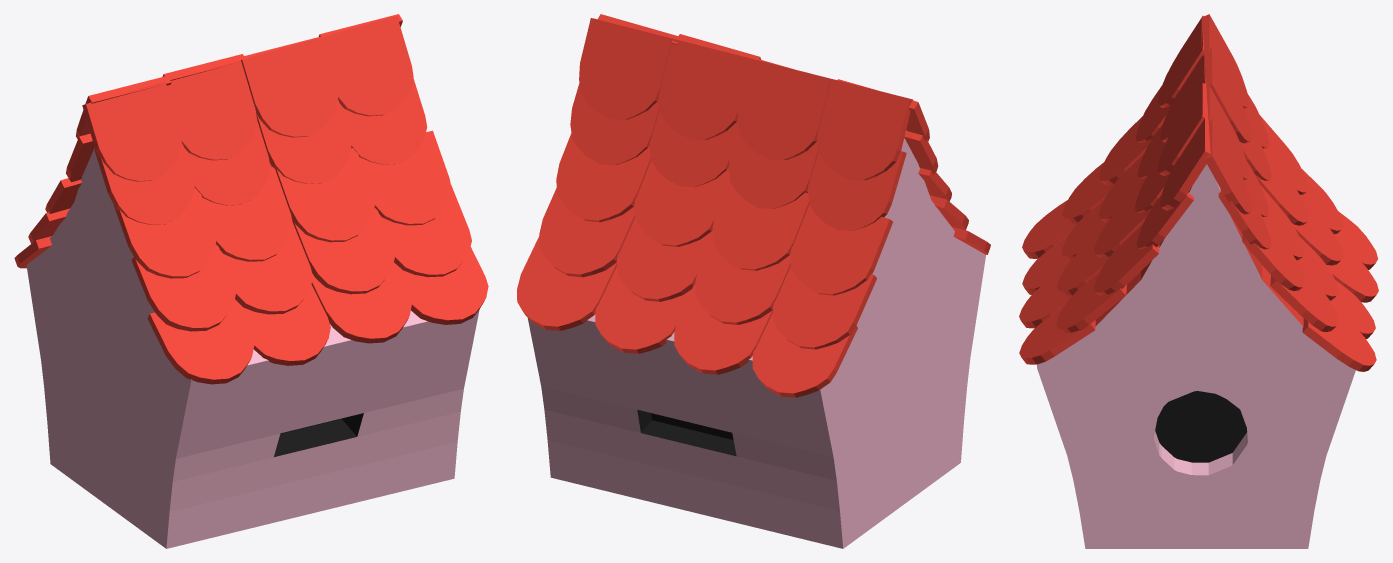
File: Bird_House.obj
3 views of the same model, side by side, from view 1: azimuth 30°, elevation 25°; view 2: azimuth 150°, elevation 25°; view 3: azimuth 270°, elevation 25° (orthographic). The views are drawn at different scales.
Visible parts, largest first — view 1: group1644922446, group1267132533, group523291338, group1237239514, group2017416410, group1143590556, group237740808, group524518127, group2069091998, group61402183, group1448090274, group1376504471 (+15 smaller); view 2: group1644922446, group30455806, group518334273, group394417821, group1614844125, group216432254, group2046839900, group973759995, group760873485, group220520178, group1682062602, group1768850218 (+13 smaller); view 3: group1644922446, group1682062602, group1237239514, group237740808, group394417821, group191207040, group1768850218, group1336436177, group518334273, group523291338, group760873485, group1267132533 (+29 smaller).
Boxes of the visible parts, x1,y1,x2,y2 form: group1644922446: (26,148,479,548); group1267132533: (82,81,181,181); group523291338: (241,37,337,137); group1237239514: (321,16,413,116); group2017416410: (167,60,257,160); group1143590556: (275,148,374,242); group237740808: (359,130,451,225); group524518127: (113,188,216,278); group2069091998: (131,244,235,331); group61402183: (147,302,254,384); group1448090274: (202,167,292,261); group1376504471: (292,207,394,294); group1644922446: (527,130,985,548); group30455806: (817,79,913,180); group518334273: (737,58,831,160); group394417821: (579,18,672,119); group1614844125: (658,38,749,139); group216432254: (790,204,892,295); group2046839900: (712,177,809,270); group973759995: (634,161,729,246); group760873485: (556,133,651,222); group220520178: (773,266,876,349); group1682062602: (517,236,616,330); group1768850218: (539,188,634,277); group1644922446: (1037,164,1355,548); group1682062602: (1302,312,1376,371); group1237239514: (1159,118,1210,210); group237740808: (1094,224,1159,295); group394417821: (1204,120,1252,214); group191207040: (1056,272,1126,332); group1768850218: (1270,268,1338,332); group1336436177: (1019,308,1095,364); group518334273: (1204,48,1251,143); group523291338: (1157,82,1208,175); group760873485: (1242,218,1305,290); group1267132533: (1157,15,1203,108).
Size of the model in its own units: 0.48 by 0.5922 by 0.4828.
